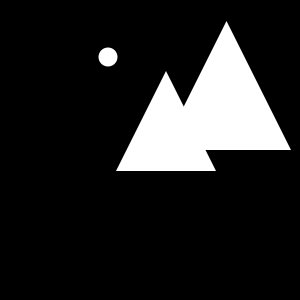rectangle: (98, 48, 118, 66)
triangle: (162, 21, 291, 150), (116, 71, 216, 171)
